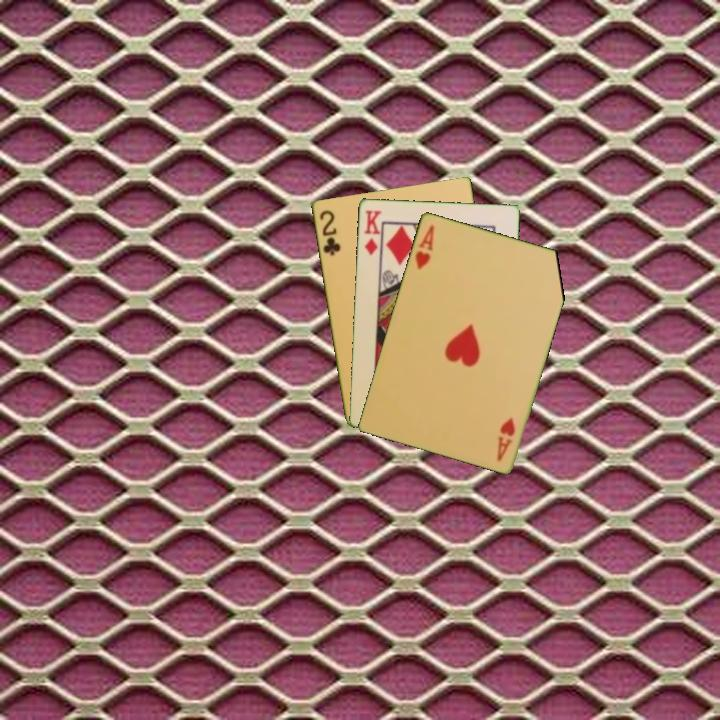2c: (316, 207, 343, 258)
Ah: (411, 221, 437, 272), (493, 413, 518, 464)
Kd: (360, 206, 384, 258)
